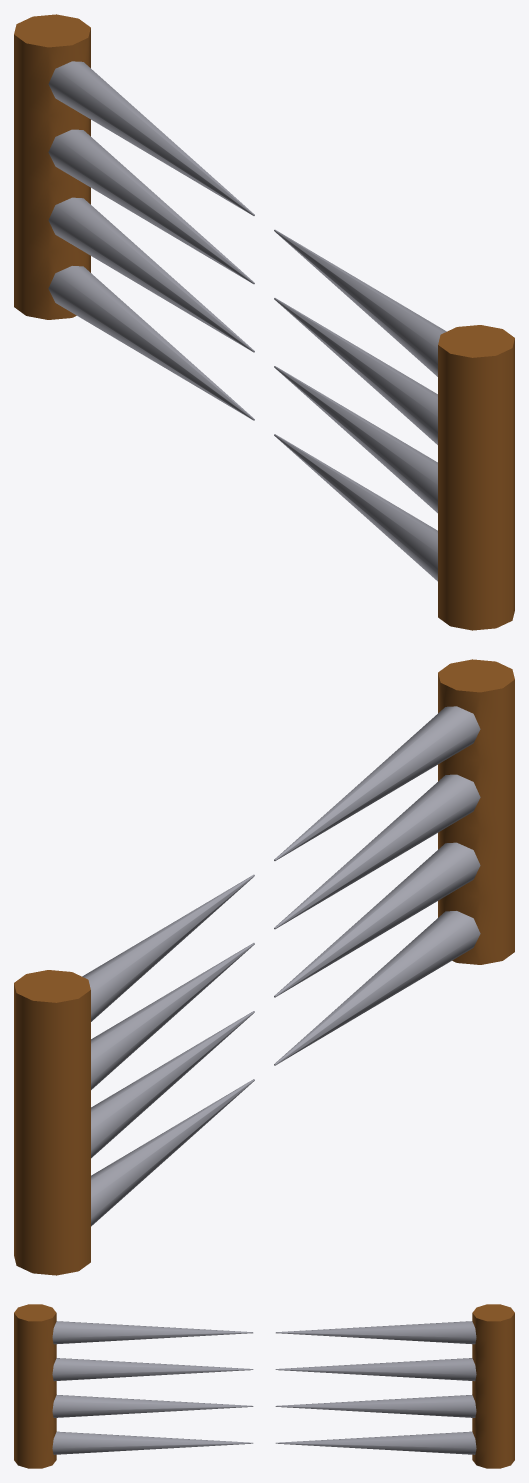
Rendered from spikes (1).fbx.
3 views of the same model, one above another, from view 1: azimuth 30°, elevation 25°; view 2: azimuth 150°, elevation 25°; view 3: azimuth 270°, elevation 25° (orthographic). The views are drawn at different scales.
Parts seen in each view (by area): view 1: Circle.001; view 2: Circle.001; view 3: Circle.001.
Part boxes in pixels (box(x1,y1,x2,y2)): Circle.001: box(14, 14, 514, 630); Circle.001: box(14, 659, 514, 1275); Circle.001: box(14, 1304, 514, 1468).
Size of the model in its own units: 0.7038 by 2.83 by 8.72.
